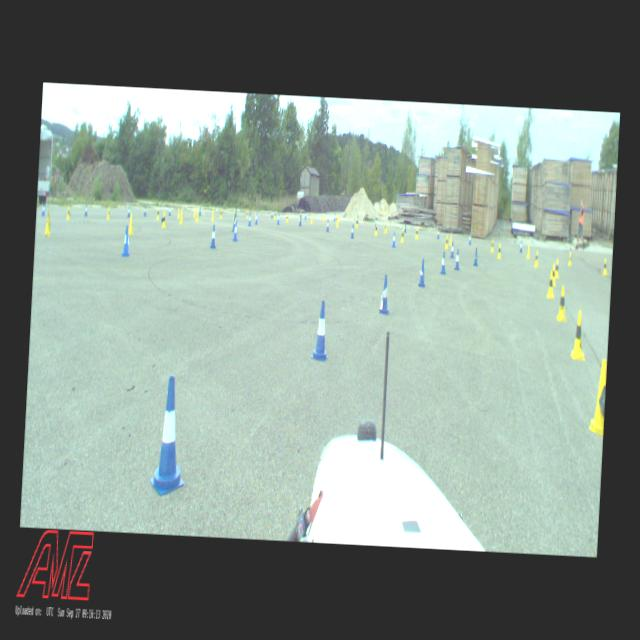blue_cone: (150, 376, 190, 497), (311, 299, 331, 362), (378, 274, 391, 314), (122, 226, 132, 256), (418, 259, 427, 288), (210, 224, 217, 250), (440, 251, 447, 275), (454, 248, 461, 270), (232, 220, 239, 241), (473, 248, 479, 266), (450, 242, 455, 258), (350, 224, 355, 238), (232, 215, 236, 232), (392, 232, 396, 248), (248, 212, 252, 226), (254, 212, 258, 225), (468, 233, 472, 245), (519, 240, 523, 252), (326, 220, 330, 232), (276, 213, 280, 224), (436, 228, 439, 240), (299, 215, 302, 226), (404, 223, 406, 233)
yellow_cone: (589, 357, 607, 437), (570, 310, 588, 360), (556, 286, 568, 321), (546, 271, 555, 298), (44, 211, 52, 237), (128, 213, 134, 235), (554, 258, 560, 278), (602, 258, 608, 276), (552, 263, 556, 286), (534, 250, 539, 267), (497, 243, 502, 259), (162, 210, 166, 228), (526, 244, 531, 258), (66, 206, 71, 218), (490, 238, 494, 252), (568, 252, 572, 266), (400, 229, 404, 242), (374, 223, 378, 236), (449, 232, 453, 245), (107, 207, 111, 220), (156, 207, 160, 220), (445, 236, 449, 248), (414, 227, 418, 239), (196, 210, 200, 222), (384, 222, 388, 234), (310, 214, 314, 225), (212, 210, 216, 221), (177, 208, 181, 219), (180, 210, 183, 224), (336, 216, 339, 228), (220, 208, 223, 218), (194, 208, 196, 218)
